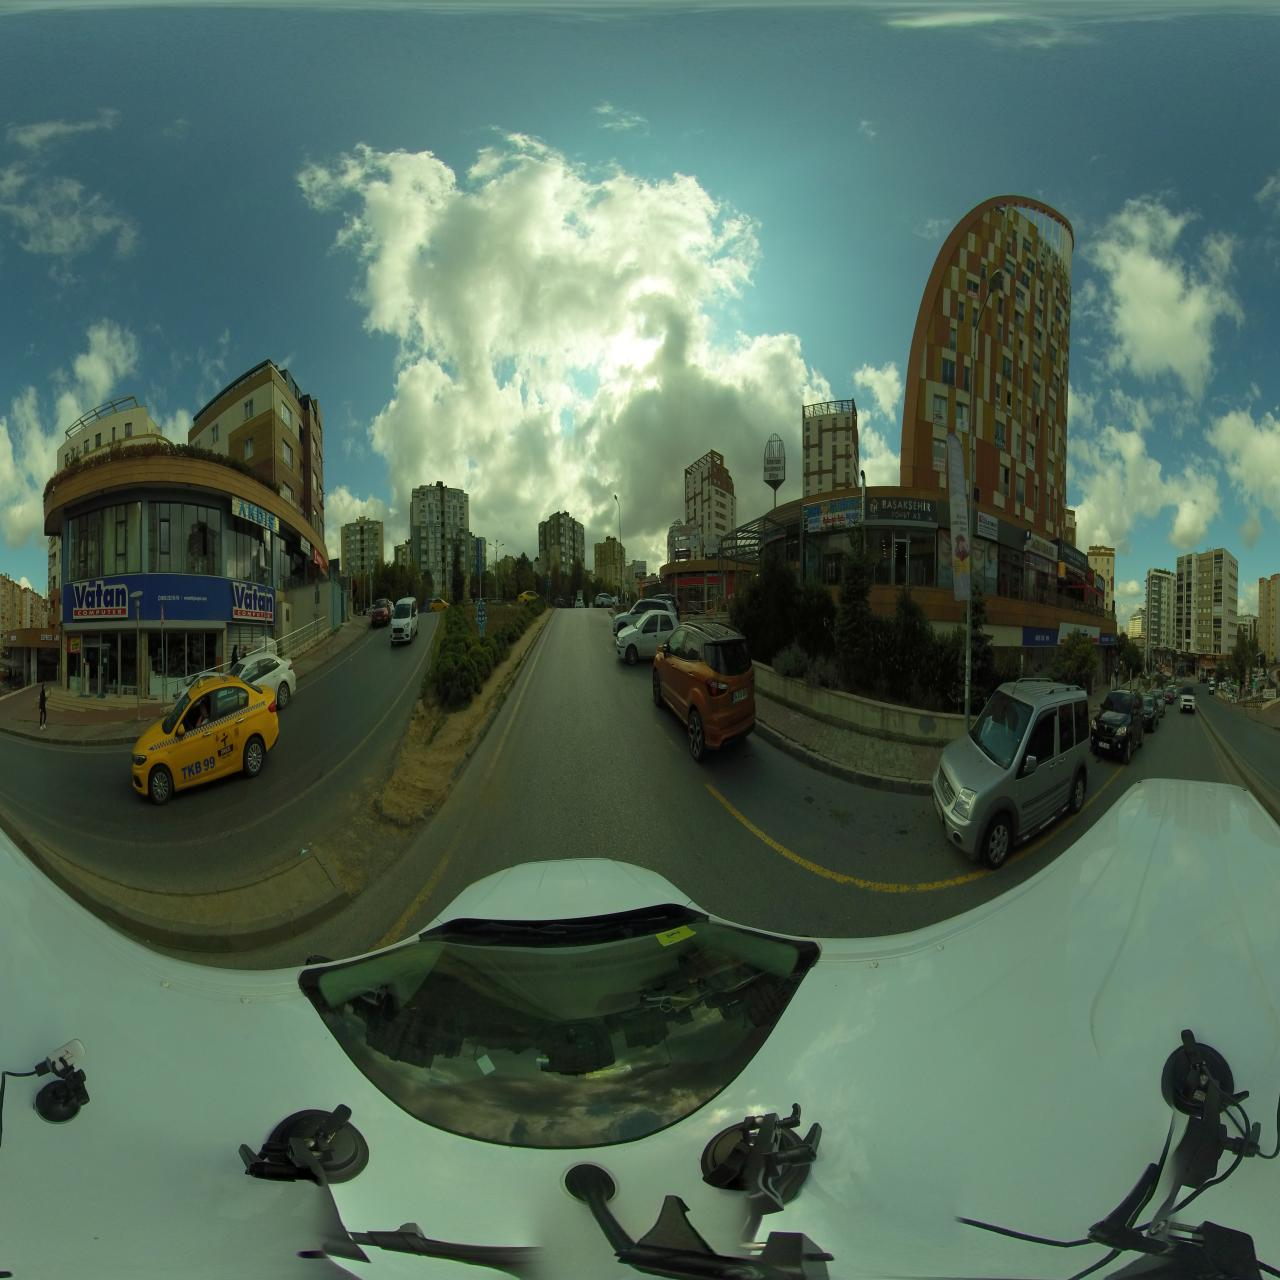SignStore: (69, 573, 131, 624), (227, 580, 275, 625), (866, 496, 935, 523), (237, 495, 278, 533), (1061, 540, 1088, 571), (1032, 533, 1056, 560), (978, 511, 998, 540), (39, 628, 60, 647), (1088, 568, 1104, 592), (676, 524, 697, 537), (314, 549, 325, 568), (706, 539, 717, 552), (675, 550, 690, 559), (1199, 654, 1214, 660), (1194, 653, 1199, 659)
